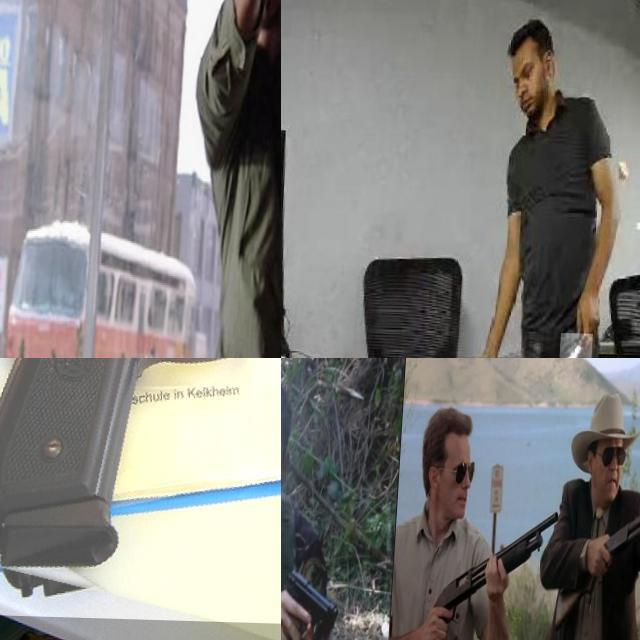-: (564, 330, 598, 358)
gun-knife-thesis - v11 Yolov5 augmented: (0, 358, 281, 623), (435, 358, 640, 500), (422, 492, 568, 640), (554, 455, 640, 626), (281, 558, 349, 640), (246, 0, 281, 83), (281, 358, 296, 383)
